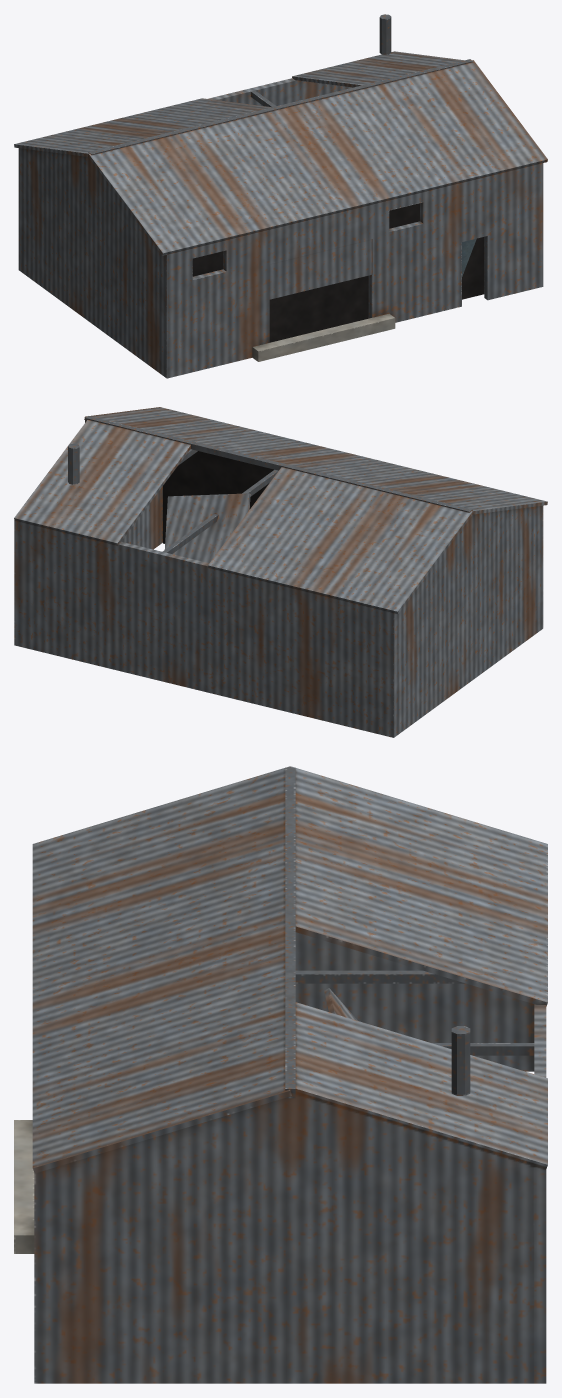
File: Edificio_Almacen.glb
3 renders of one model, top to bottom at view 1: azimuth 30°, elevation 25°; view 2: azimuth 150°, elevation 25°; view 3: azimuth 270°, elevation 25°, orthographic. The views are drawn at different scales.
Visible parts, largest first — view 1: Edificio_Almacen; view 2: Edificio_Almacen; view 3: Edificio_Almacen.
Part boxes in pixels (x1=…): Edificio_Almacen: x1=14, y1=14, x2=547, y2=378; Edificio_Almacen: x1=14, y1=407, x2=547, y2=737; Edificio_Almacen: x1=14, y1=766, x2=547, y2=1383.
Size of the model in its own units: 45 by 21 by 31.3.
Materials: 1 (1 with a texture image).
